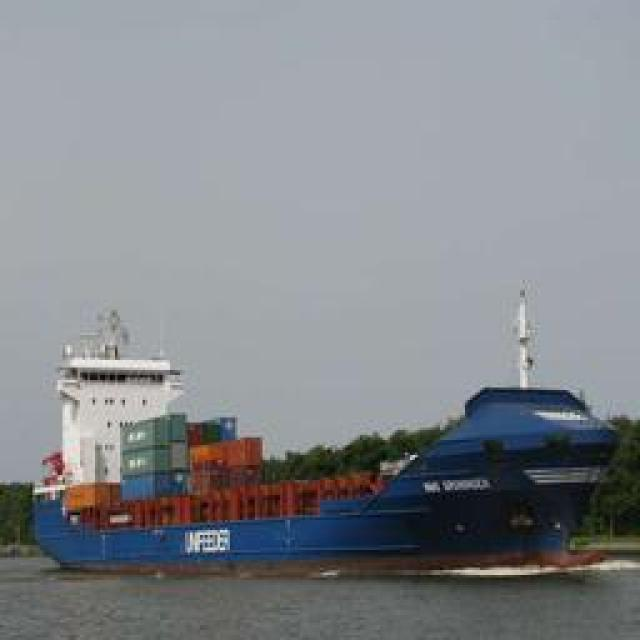Ship: (37, 357, 617, 575)
